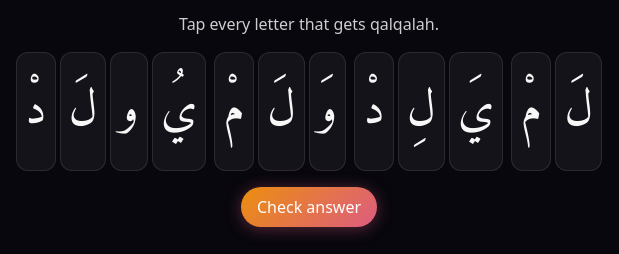
SpanTapper — qalqalah › does not reveal how many letters qualify until the learner submits
Click the button "Check answer" at (309, 207), box top-left (241, 187), bottom-right (377, 227)
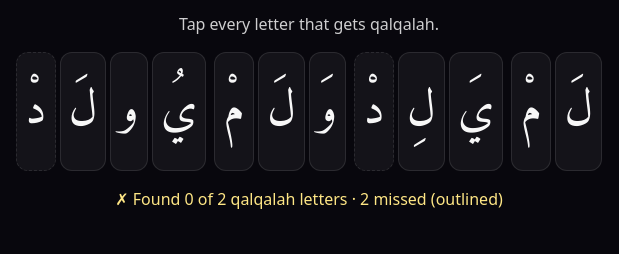
Check: the message shows "0 of 2", box top-left (115, 188), bottom-right (503, 210)
